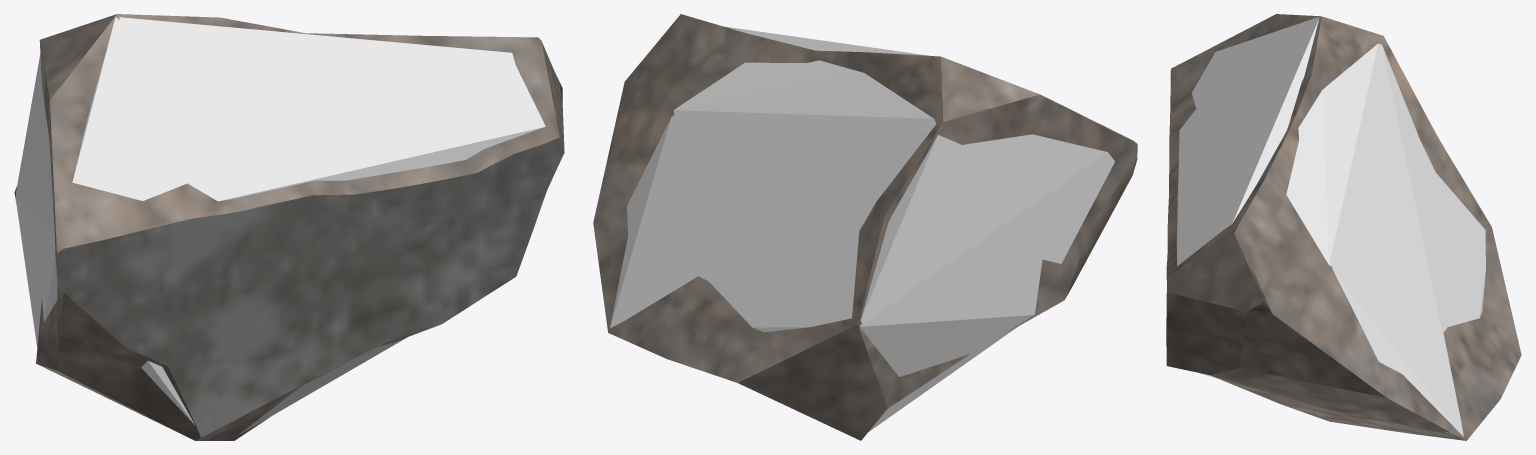
Rendered from SM_Rock_49.fbx.
The picture shows the model from 3 angles, left to right: view 1: azimuth 30°, elevation 25°; view 2: azimuth 150°, elevation 25°; view 3: azimuth 270°, elevation 25°; orthographic projection. The views are drawn at different scales.
Visible parts, largest first — view 1: SM_Rock_49_LOD0, SM_Rock_49_ConvexHulls; view 2: SM_Rock_49_ConvexHulls, SM_Rock_49_LOD0; view 3: SM_Rock_49_ConvexHulls, SM_Rock_49_LOD0.
Boxes of the visible parts, box(x1,y1,x2,y2) form: SM_Rock_49_LOD0: box(14, 14, 564, 440); SM_Rock_49_ConvexHulls: box(15, 17, 545, 435); SM_Rock_49_ConvexHulls: box(610, 26, 1114, 431); SM_Rock_49_LOD0: box(593, 14, 1137, 440); SM_Rock_49_ConvexHulls: box(1176, 16, 1485, 436); SM_Rock_49_LOD0: box(1166, 14, 1521, 440).
Size of the model in its own units: 40.86 by 26.58 by 30.6.
